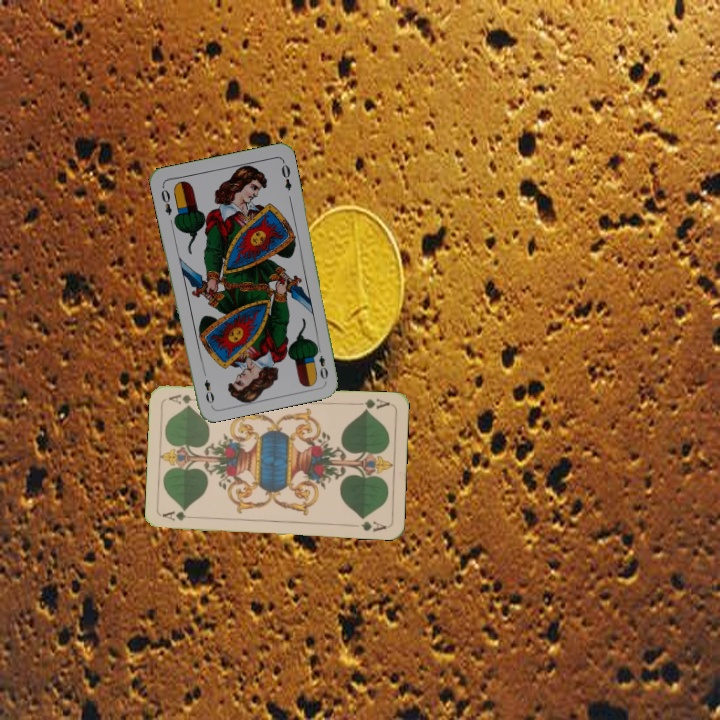EO: (312, 342, 331, 382), (157, 182, 174, 218)
GA: (352, 394, 392, 414), (159, 508, 200, 524)
